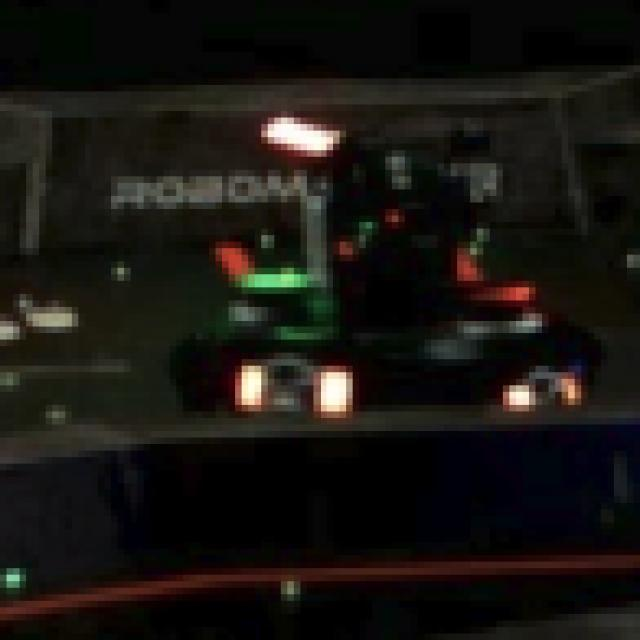Rs: (235, 346, 346, 431)
